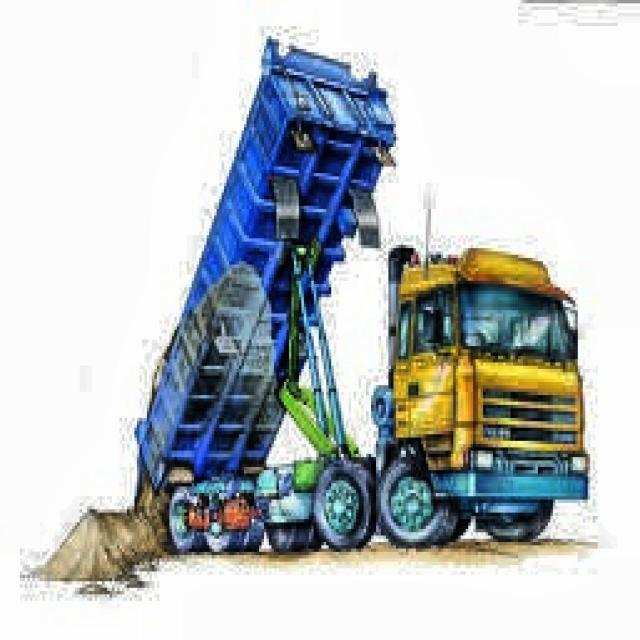dump_truck: (140, 45, 593, 553)
